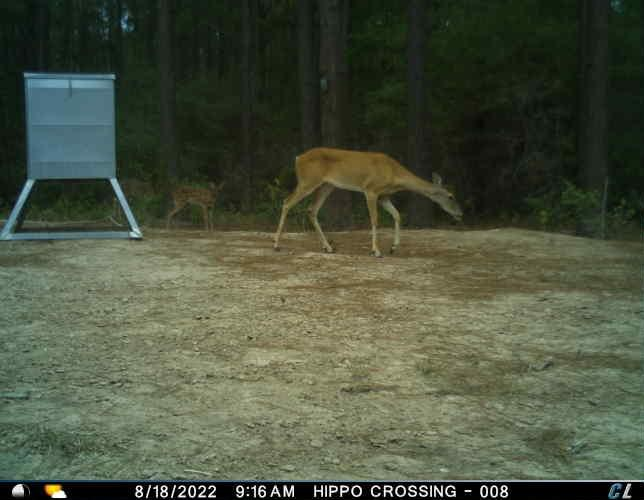Deer: (270, 146, 467, 261), (169, 177, 228, 233), (114, 176, 164, 235)
